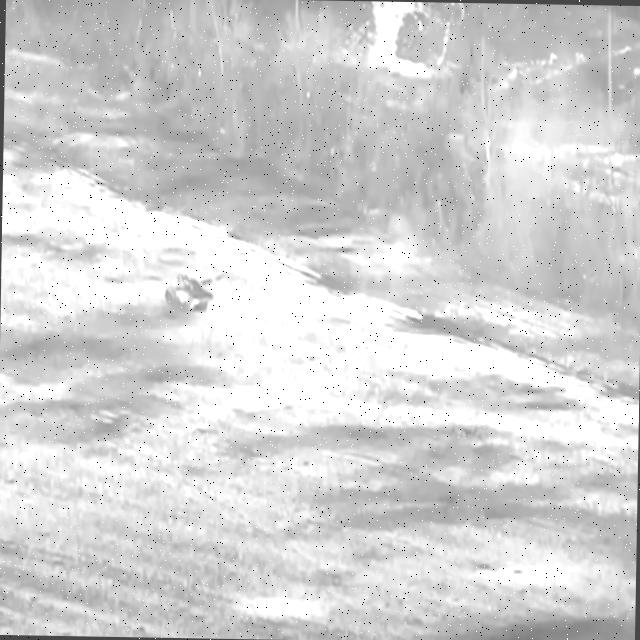MBT: (163, 269, 231, 316)
